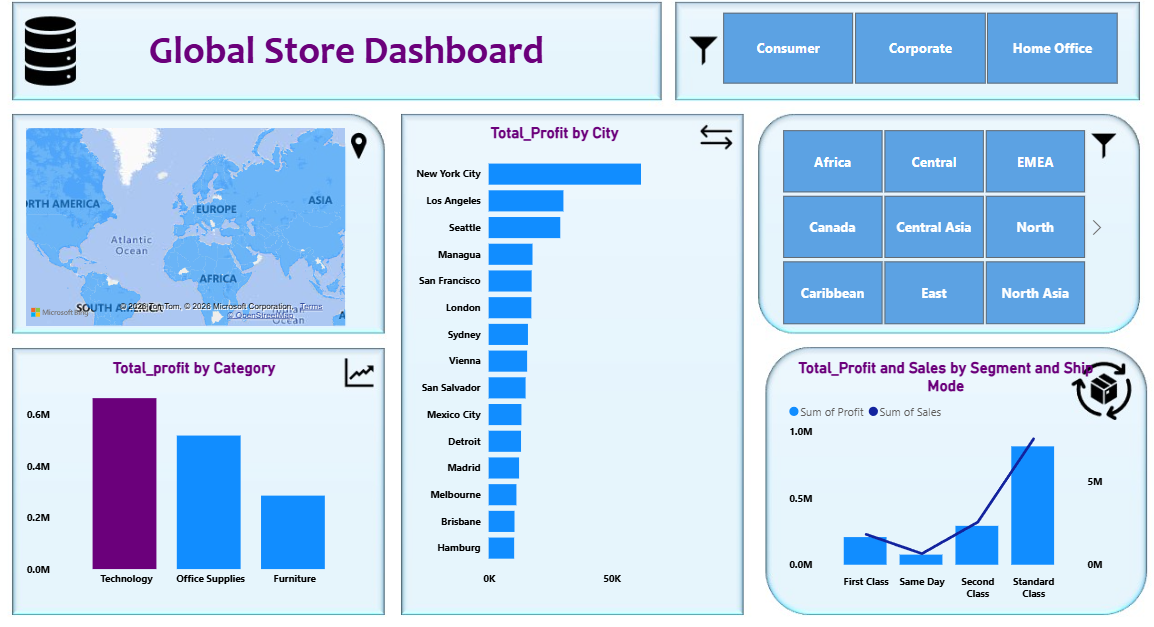

This screenshot's page, from the dashboard's own definition file:
{"tool":"powerbi","page":{"name":"Page 1","canvas":[1280,720],"ordinal":0},"visuals":[{"type":"textbox","box":[166.7,34.8,448.5,74.2],"z":0},{"type":"clusteredColumnChart","title":"Total_profit by Category","fields":{"Category":["Global Superstore.Category"],"Y":["Sum(Global Superstore.Profit)"]},"box":[31.8,404.5,378.8,259.1],"z":1},{"type":"filledMap","fields":{"Category":["Global Superstore.Country"]},"box":[31.7,146.7,360,226.7],"z":2},{"type":"lineClusteredColumnComboChart","title":"Total_Profit and Sales by Segment and Ship Mode","fields":{"Category":["Global Superstore.Segment","Global Superstore.Ship Mode"],"Y":["Sum(Global Superstore.Profit)"],"Y2":["Sum(Global Superstore.Sales)"]},"box":[868.3,405,355,273.3],"z":3},{"type":"clusteredBarChart","title":"Total_Profit by City","fields":{"Y":["Sum(Global Superstore.Profit)"],"Category":["Global Superstore.City"]},"box":[458.3,146.7,316.7,516.7],"z":4},{"type":"slicer","fields":{"Values":["Global Superstore.Region"]},"box":[841.7,146.7,381.7,226.7],"z":5},{"type":"slicer","fields":{"Values":["Global Superstore.Segment"]},"box":[775,18.3,483.3,91.7],"z":6}]}

Visuals, with their boxes on the page's 1280x720 design canvas (x1, y1, x2, y2). These are canvas units, not pixel positions in the 1154x627 screenshot, which may show the page scaled, cropped or inside an application window:
textbox: [left=167, top=35, right=615, bottom=109]
"Total_profit by Category" clusteredColumnChart: [left=32, top=404, right=411, bottom=664]
filledMap - Global Superstore.Country: [left=32, top=147, right=392, bottom=373]
"Total_Profit and Sales by Segment and Ship Mode" lineClusteredColumnComboChart: [left=868, top=405, right=1223, bottom=678]
"Total_Profit by City" clusteredBarChart: [left=458, top=147, right=775, bottom=663]
slicer - Global Superstore.Region: [left=842, top=147, right=1223, bottom=373]
slicer - Global Superstore.Segment: [left=775, top=18, right=1258, bottom=110]
